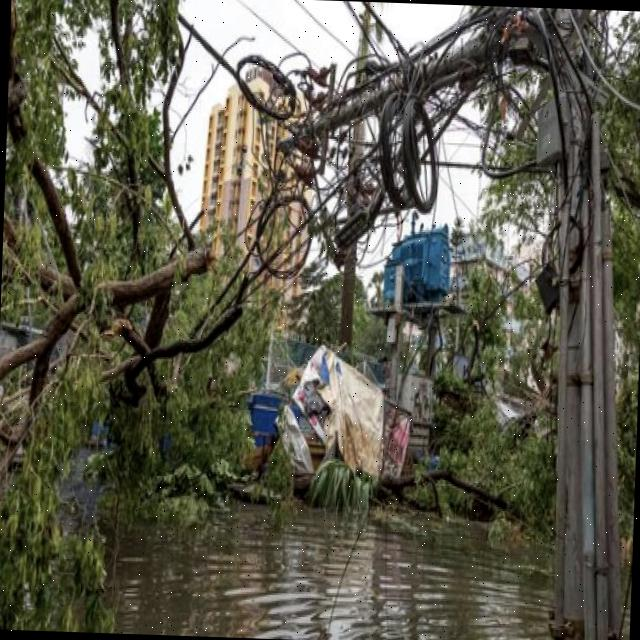Broken Pole: (229, 10, 624, 640)
